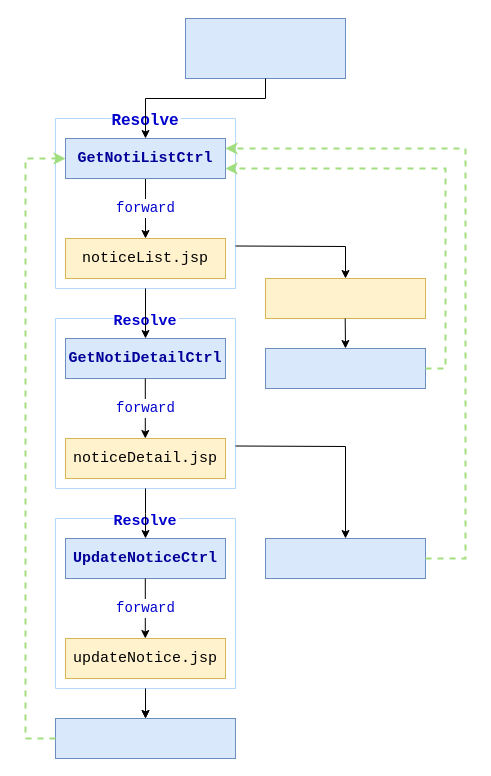
Image size: 491x776. Some labels were removed from this diagram. The shapes that lost their labels are listed below. From the top down, each one's box as (x1, y1, x2, y2) in pixels, then its label:
(184, 18, 346, 78): index.jsp
(264, 278, 426, 318): insertNotice.jsp
(264, 348, 426, 388): InsertNoticeCtrl
(264, 538, 426, 578): DeleteNoticeCtrl
(54, 718, 236, 758): UpdateNoticeProCtrl
